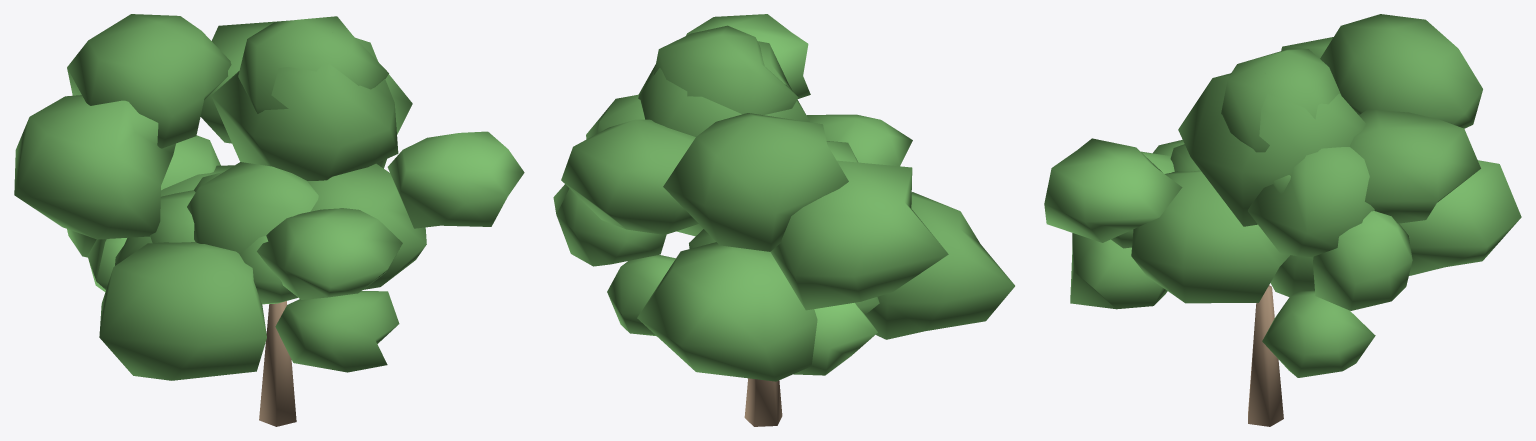
Rendered from shrub_2.glb.
The picture shows the model from 3 angles, left to right: view 1: azimuth 30°, elevation 25°; view 2: azimuth 150°, elevation 25°; view 3: azimuth 270°, elevation 25°; orthographic projection.
Parts seen in each view (by area): view 1: shrub; view 2: shrub; view 3: shrub.
Part boxes in pixels (bbox=[...]): shrub: bbox=[14, 14, 524, 426]; shrub: bbox=[553, 14, 1014, 426]; shrub: bbox=[1044, 14, 1521, 426].
Size of the model in its own units: 0.6757 by 0.6377 by 0.7197.
